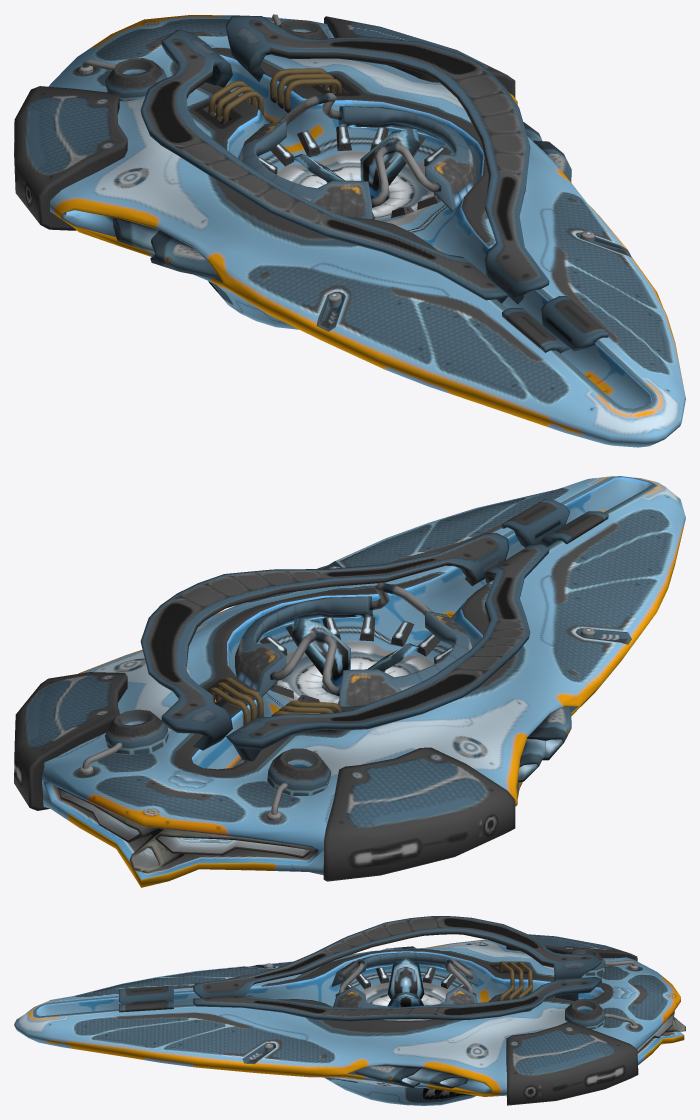
File: luminaris.obj
3 views of the same model, one above another, from view 1: azimuth 30°, elevation 25°; view 2: azimuth 150°, elevation 25°; view 3: azimuth 270°, elevation 25° (orthographic). The views are drawn at different scales.
Visible parts, largest first — view 1: Luminaris_Ingame; view 2: Luminaris_Ingame; view 3: Luminaris_Ingame.
Part boxes in pixels (<box>): Luminaris_Ingame: <box>14,14,685,447</box>; Luminaris_Ingame: <box>14,476,685,887</box>; Luminaris_Ingame: <box>14,916,685,1105</box>.
Size of the model in its own units: 21.58 by 7.72 by 40.75.
Materials: 1 (1 with a texture image).
